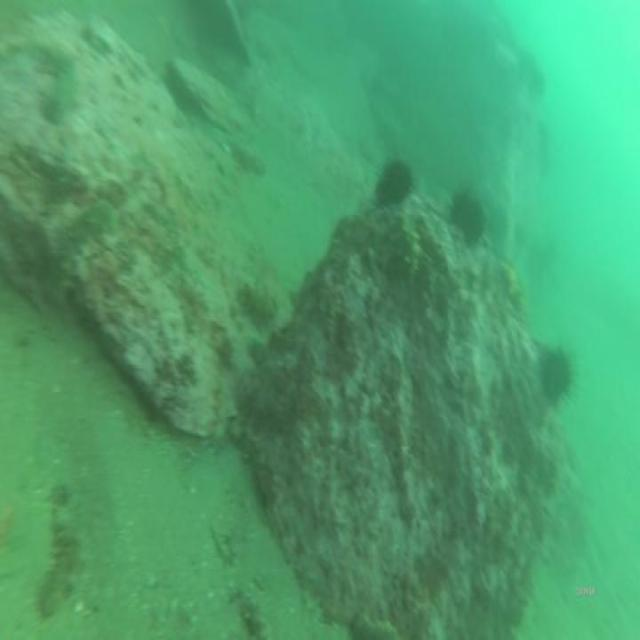echinus: (538, 332, 582, 412), (369, 152, 416, 208), (451, 184, 487, 244)
holothurian: (50, 194, 121, 299), (39, 507, 78, 624), (397, 209, 424, 278)
